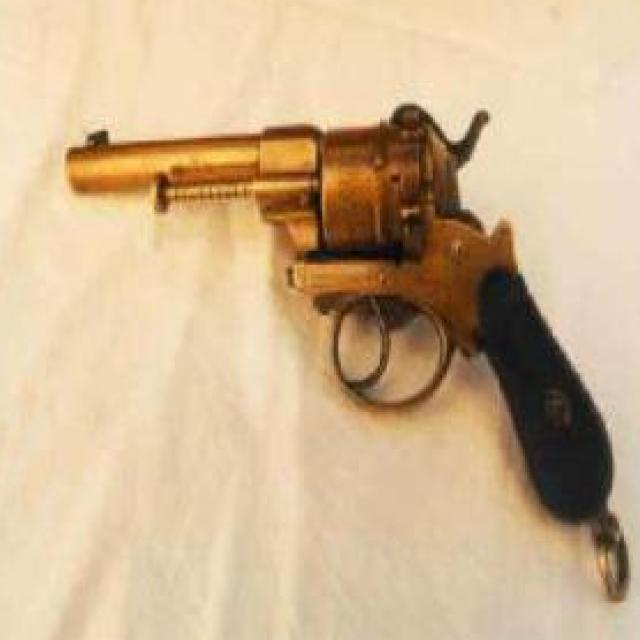pistol: (66, 96, 614, 524)
